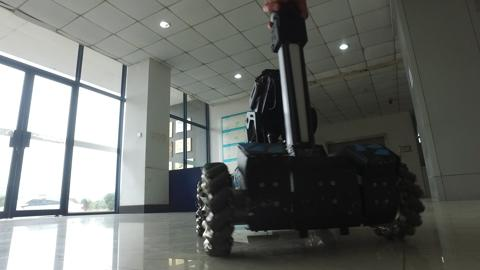chariot: (190, 14, 424, 259)
